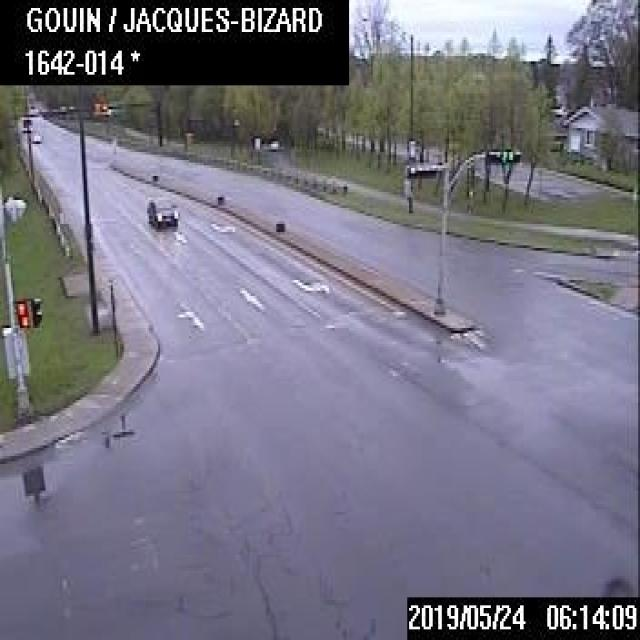vehicle: (145, 198, 177, 226), (31, 128, 42, 142), (28, 102, 38, 114)
